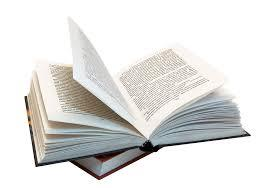Paper: (9, 10, 268, 188)
